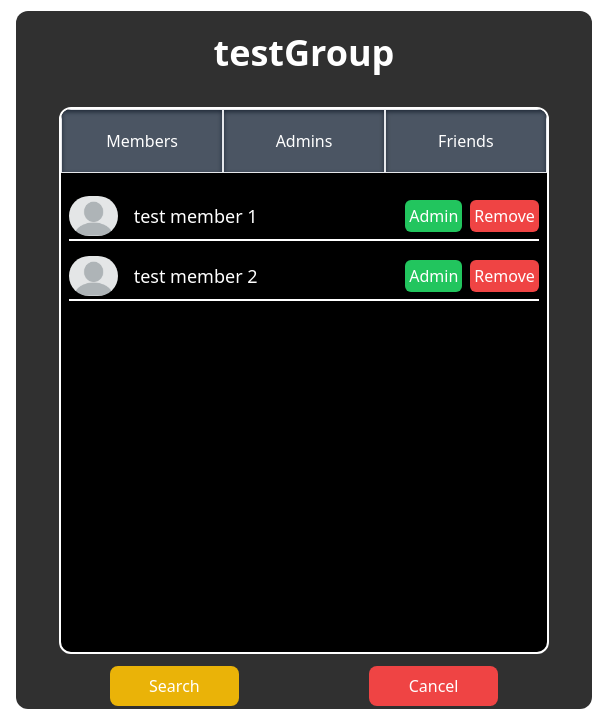
Test: tests the groupManagerComponent › should show the admins of the group
This screenshot has width=609, height=720.
Click the button "Admins".
click(304, 141)  # box [223,109,385,173]
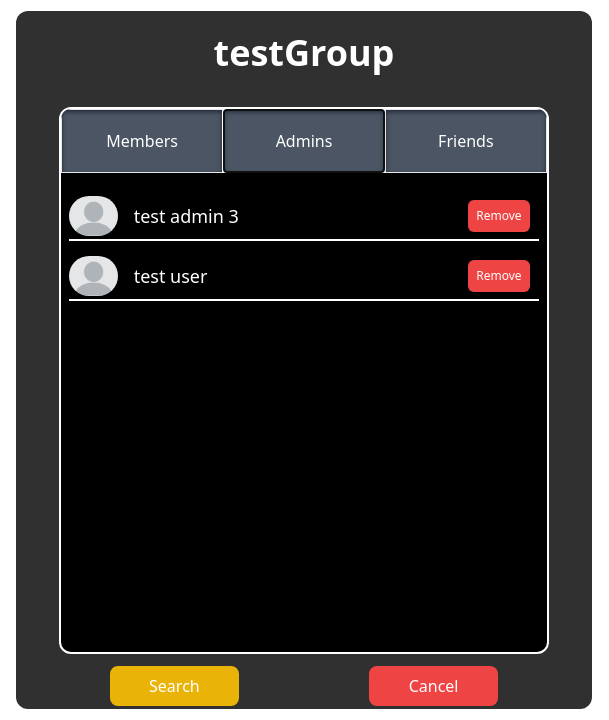
Expected: the text "test user" is shown, [134,264,208,288]
